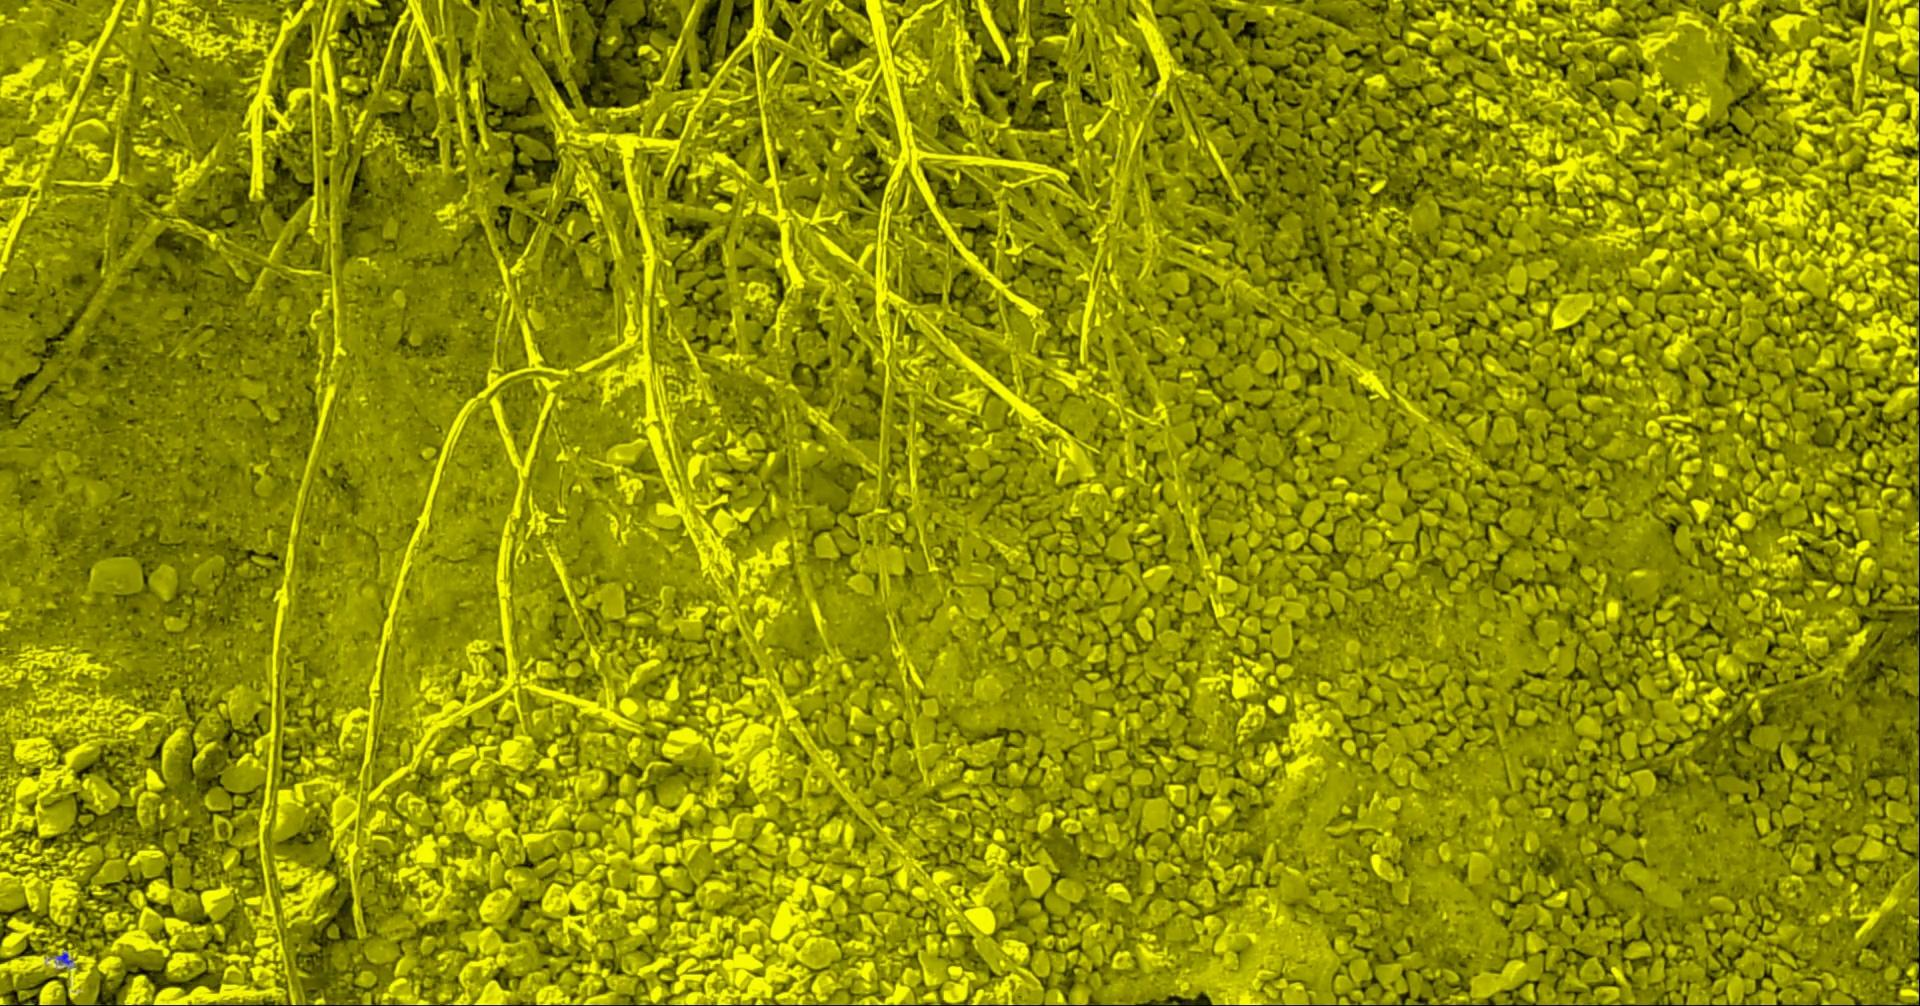ant: (56, 951, 71, 964)
